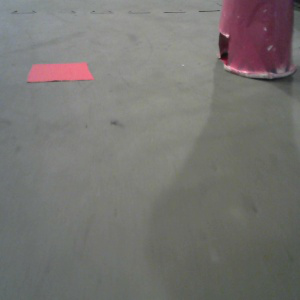right: (218, 1, 297, 79)
